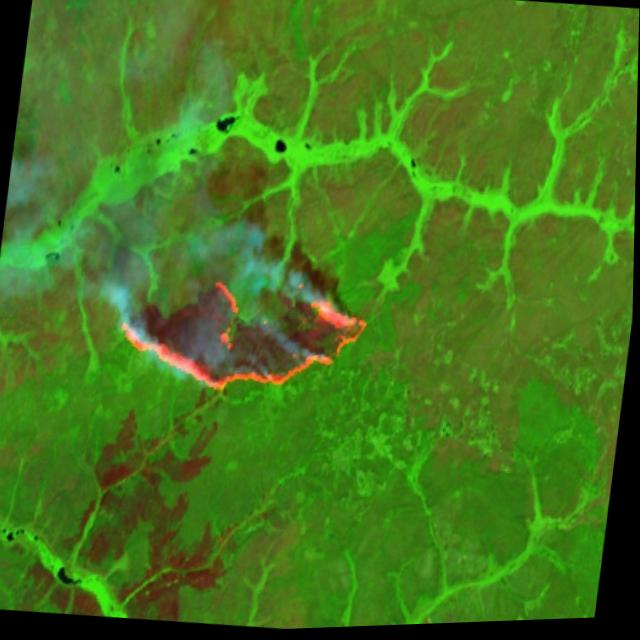fire: (110, 257, 378, 413)
